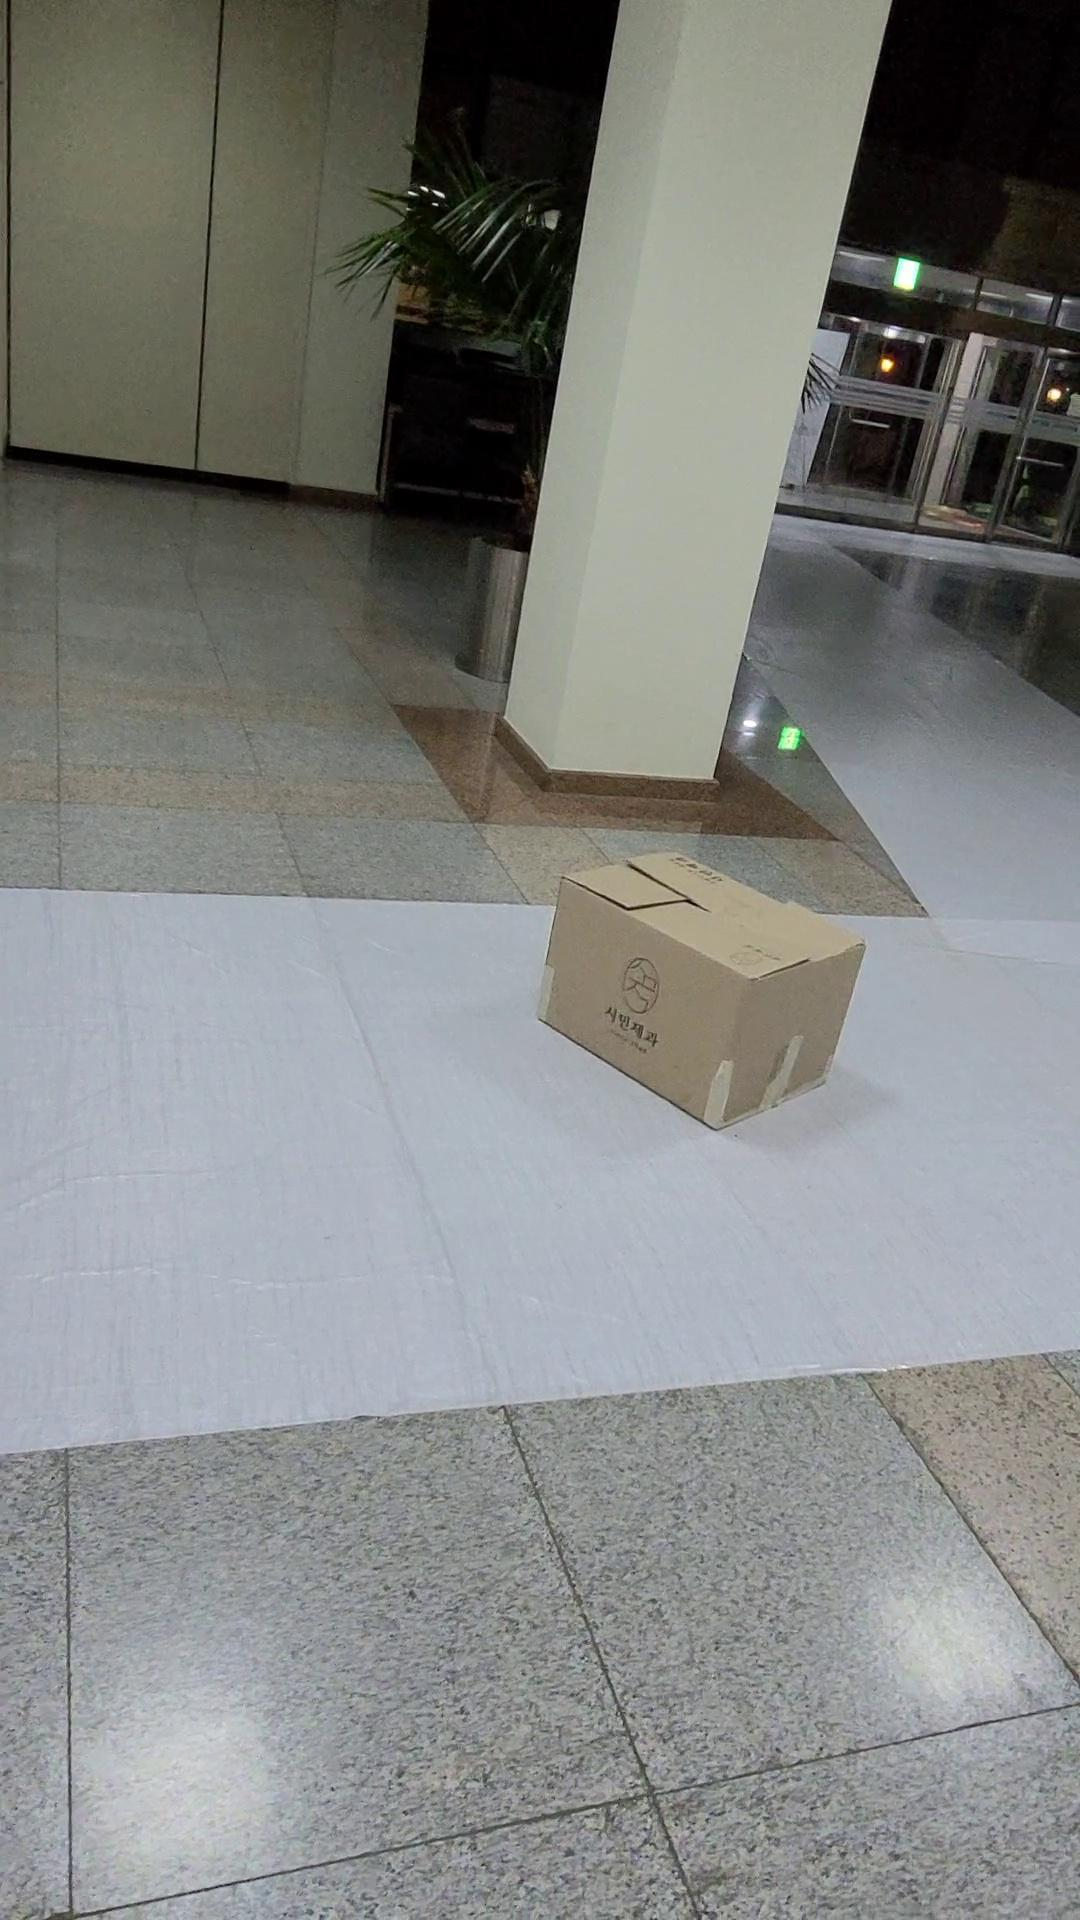Box: (521, 800, 895, 1167)
